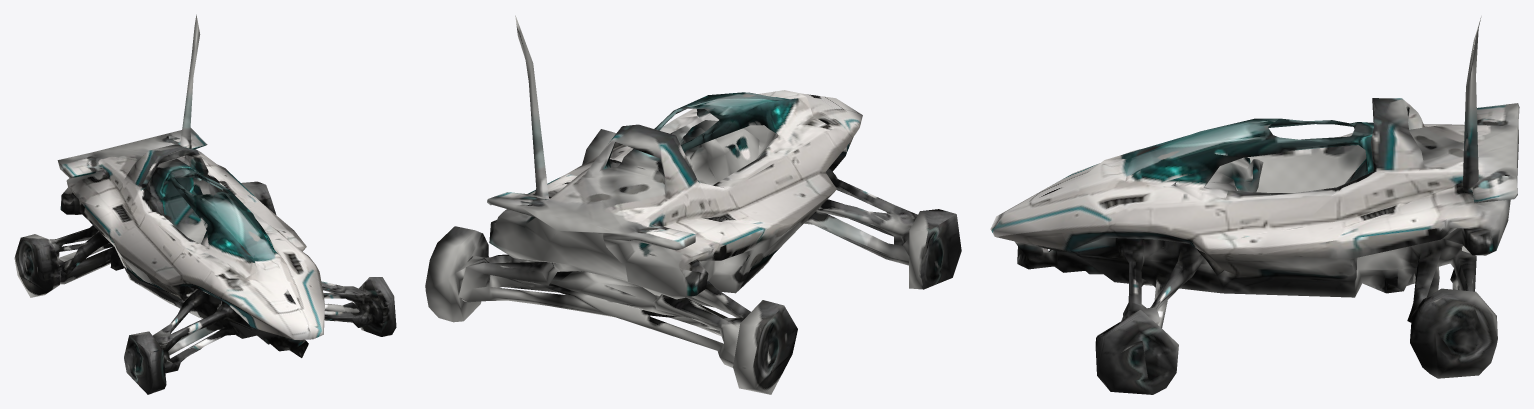
The model's file is zephyr_lod2.glb.
The picture shows the model from 3 angles, left to right: view 1: azimuth 30°, elevation 25°; view 2: azimuth 150°, elevation 25°; view 3: azimuth 270°, elevation 25°; orthographic projection. The views are drawn at different scales.
Visible parts, largest first — view 1: geometry_0; view 2: geometry_0; view 3: geometry_0.
Boxes of the visible parts, x1,y1,x2,y2 form: geometry_0: (14,14,396,394); geometry_0: (425,15,961,394); geometry_0: (990,16,1519,394).
Size of the model in its own units: 1.49 by 1.4 by 1.99.
Materials: 1 (1 with a texture image).
